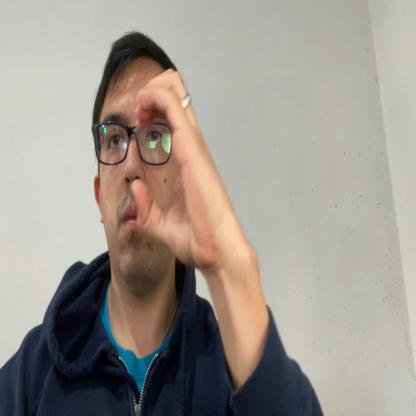C: (132, 68, 230, 270)
